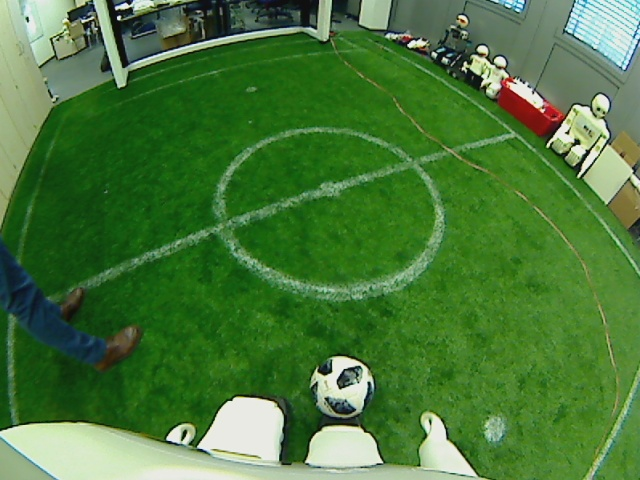ball: (306, 354, 377, 421)
